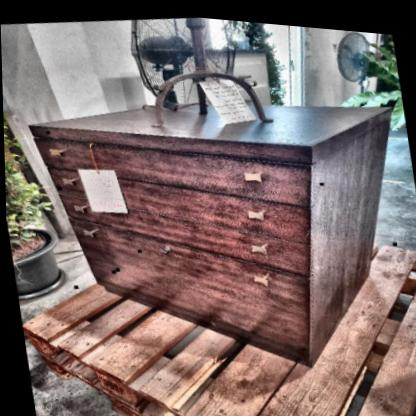Sideboard: (19, 60, 416, 400)
